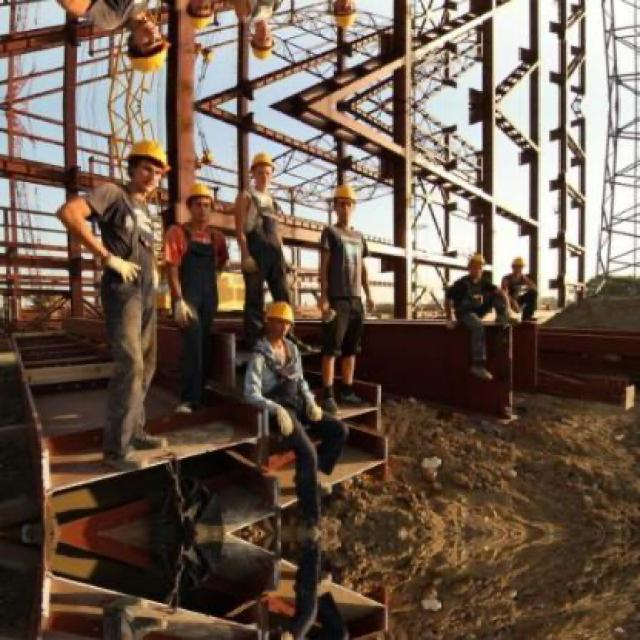helmet: (120, 15, 172, 82), (120, 133, 172, 199), (326, 180, 363, 228), (178, 181, 216, 225), (261, 299, 297, 344), (247, 18, 276, 65), (247, 148, 276, 194), (326, 0, 365, 34), (178, 0, 217, 34), (468, 252, 484, 280), (509, 256, 526, 279)
